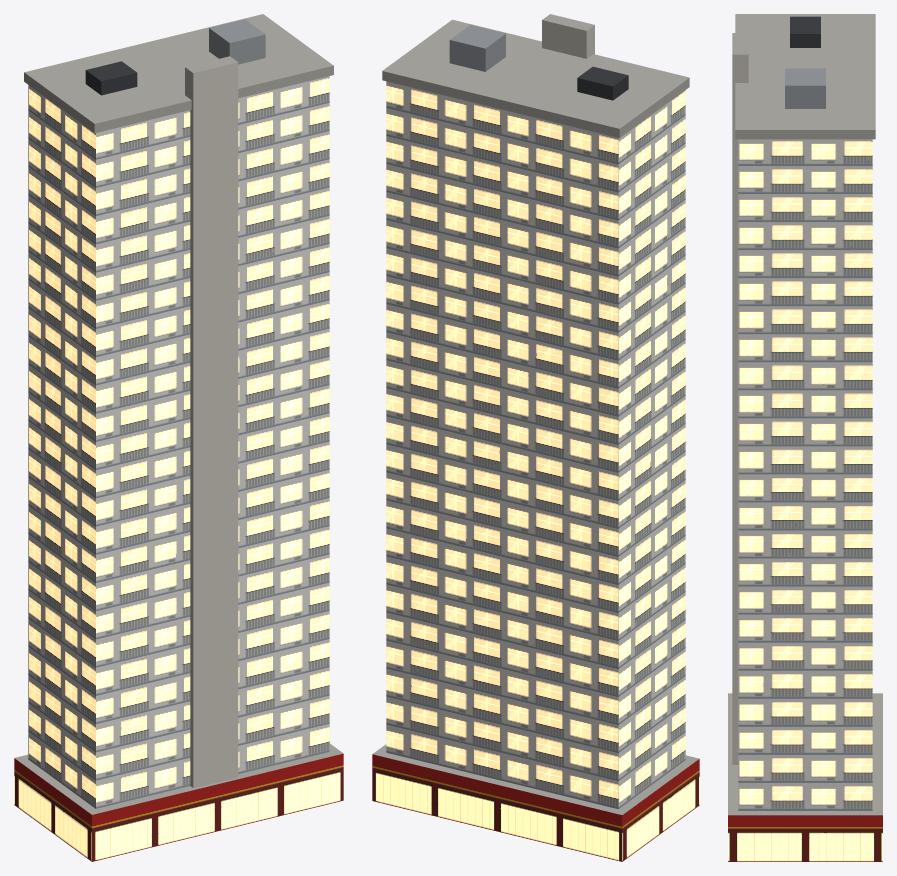
The model's file is chn_tower_a.glb.
The picture shows the model from 3 angles, left to right: view 1: azimuth 30°, elevation 25°; view 2: azimuth 150°, elevation 25°; view 3: azimuth 270°, elevation 25°; orthographic projection.
Parts seen in each view (by area): view 1: box; view 2: box; view 3: box.
Part boxes in pixels (x1,y1,x2,y2): box: (14,14,343,861); box: (372,14,699,861); box: (728,14,882,861).
Size of the model in its own units: 28 by 81 by 15.
Materials: 6 (2 with a texture image).
